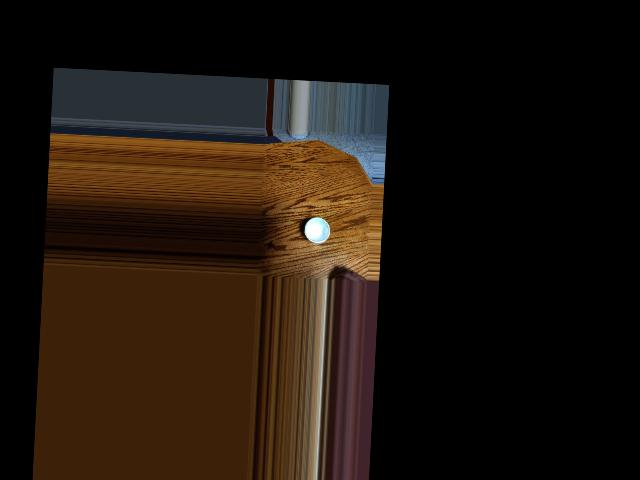cotage: (304, 214, 332, 247)
